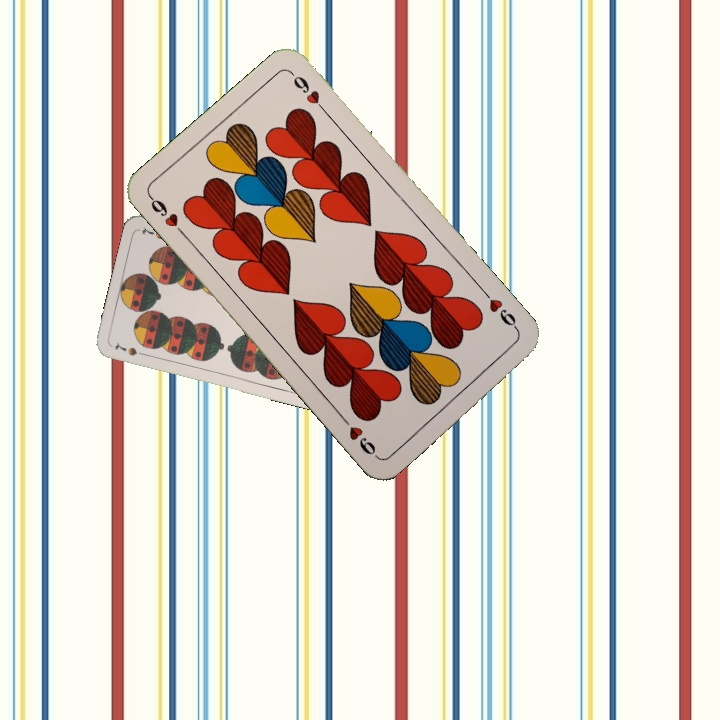H9: (145, 192, 189, 240), (479, 286, 522, 335)
S7: (111, 339, 149, 359)
